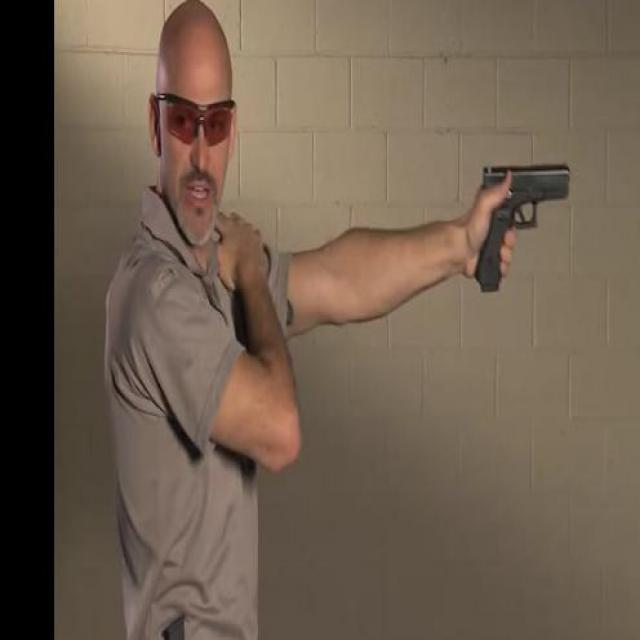Gun: (474, 154, 574, 294)
